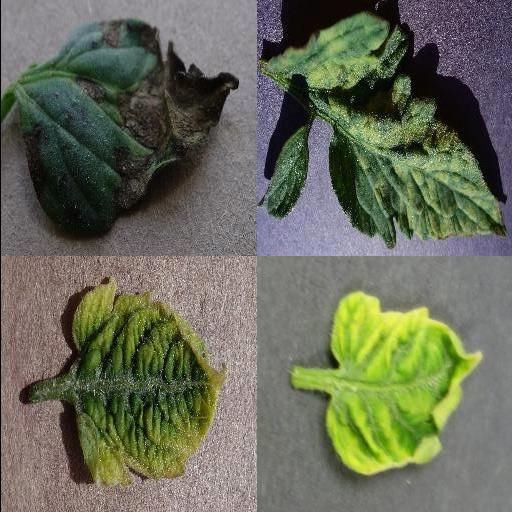Early Blight: (11, 18, 241, 240)
Leaf Mold: (256, 12, 507, 248)
Yellow Leaf Curl Virus: (70, 277, 226, 485), (326, 293, 482, 477)
